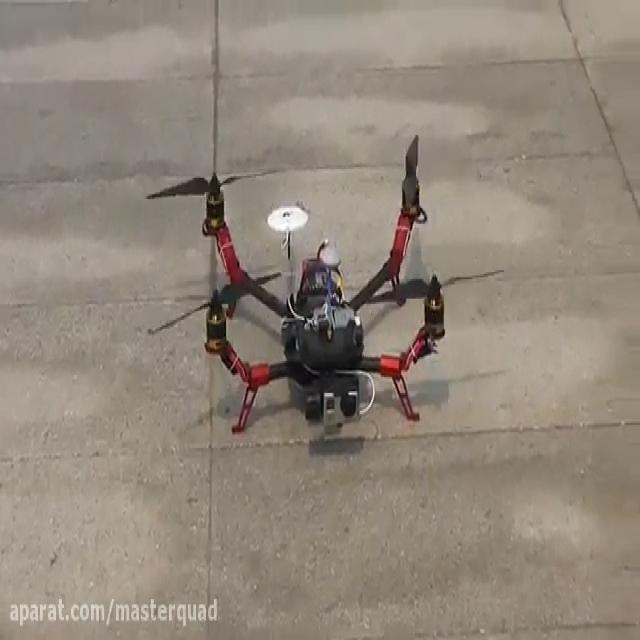drone: (145, 130, 506, 439)
